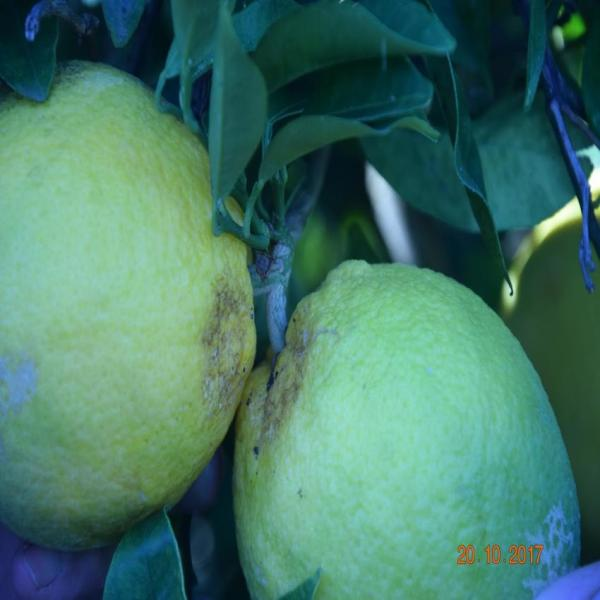Trips: (230, 232, 590, 600), (0, 45, 256, 551)
